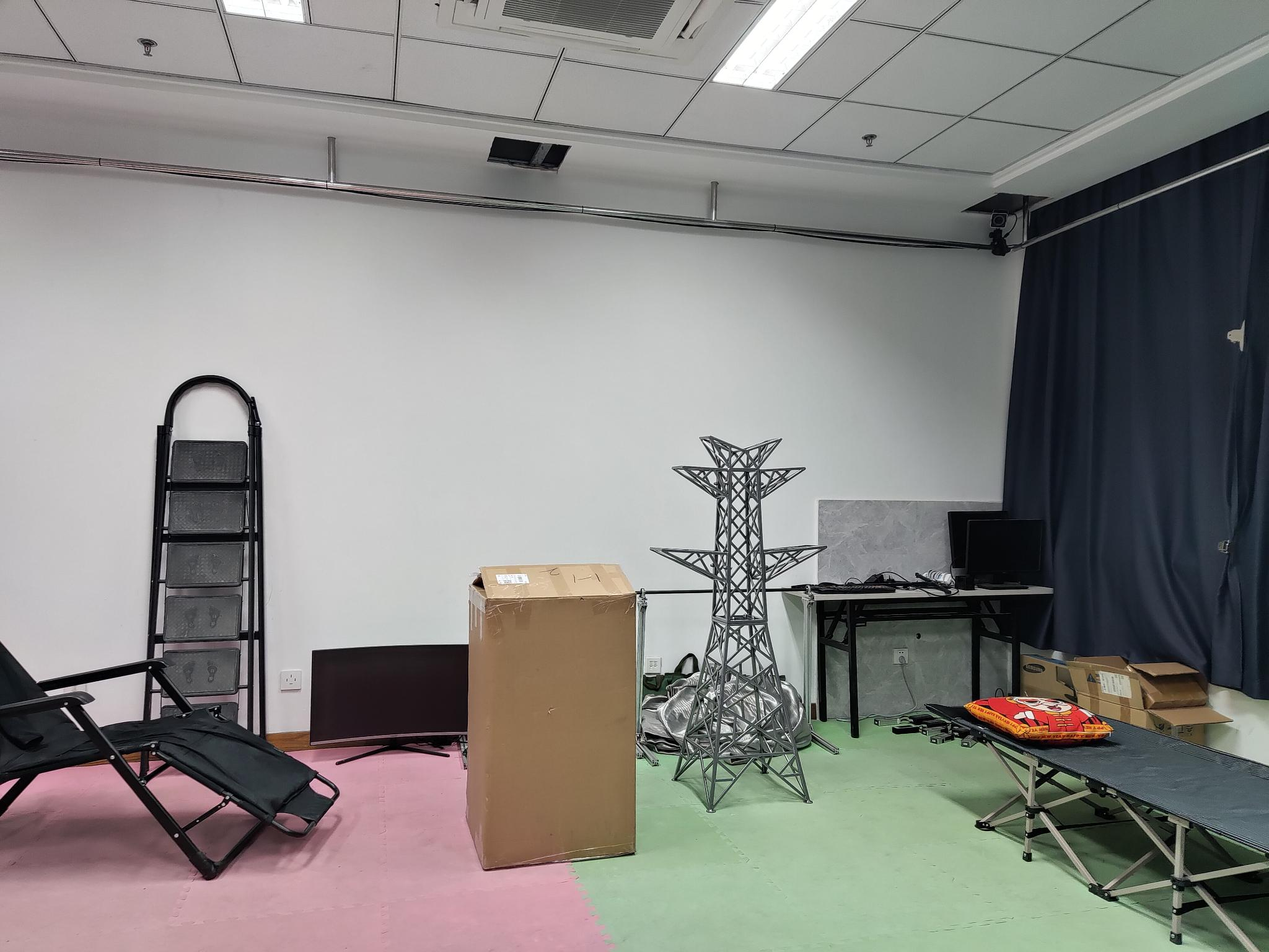tower: (647, 433, 827, 815)
